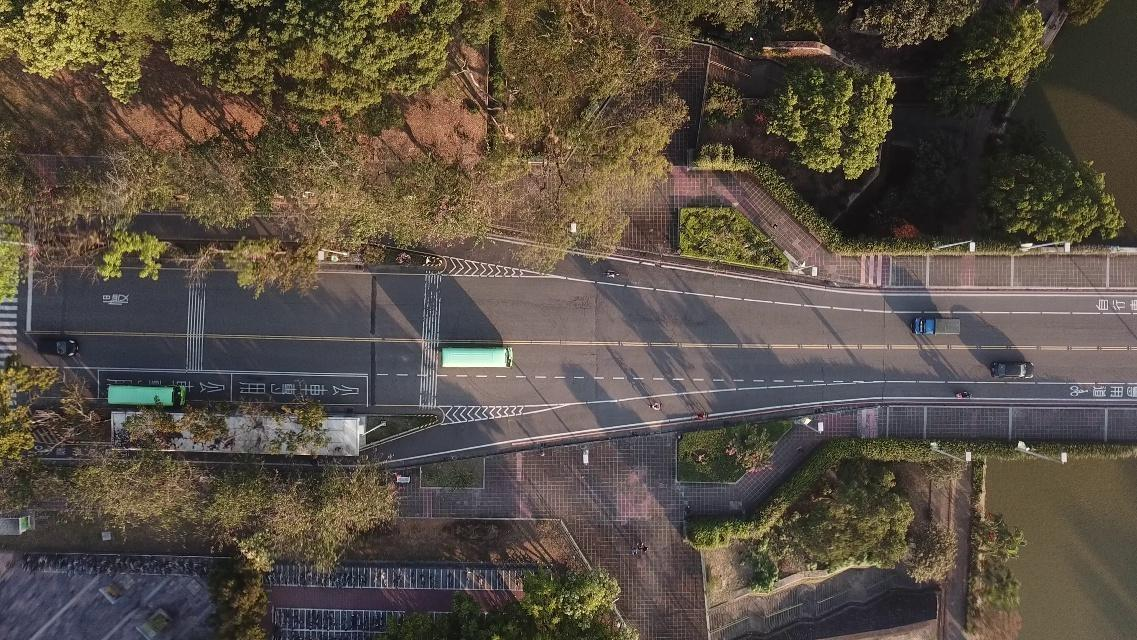Bus: (107, 383, 186, 407), (441, 347, 512, 366)
Car: (989, 355, 1038, 382), (38, 331, 80, 360)
